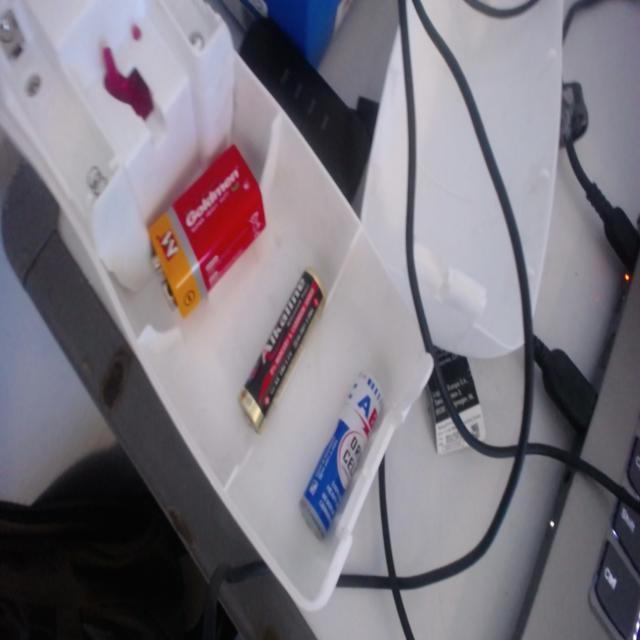9V: (128, 124, 277, 314)
AA: (298, 357, 388, 558)
AAA: (229, 254, 330, 426)
